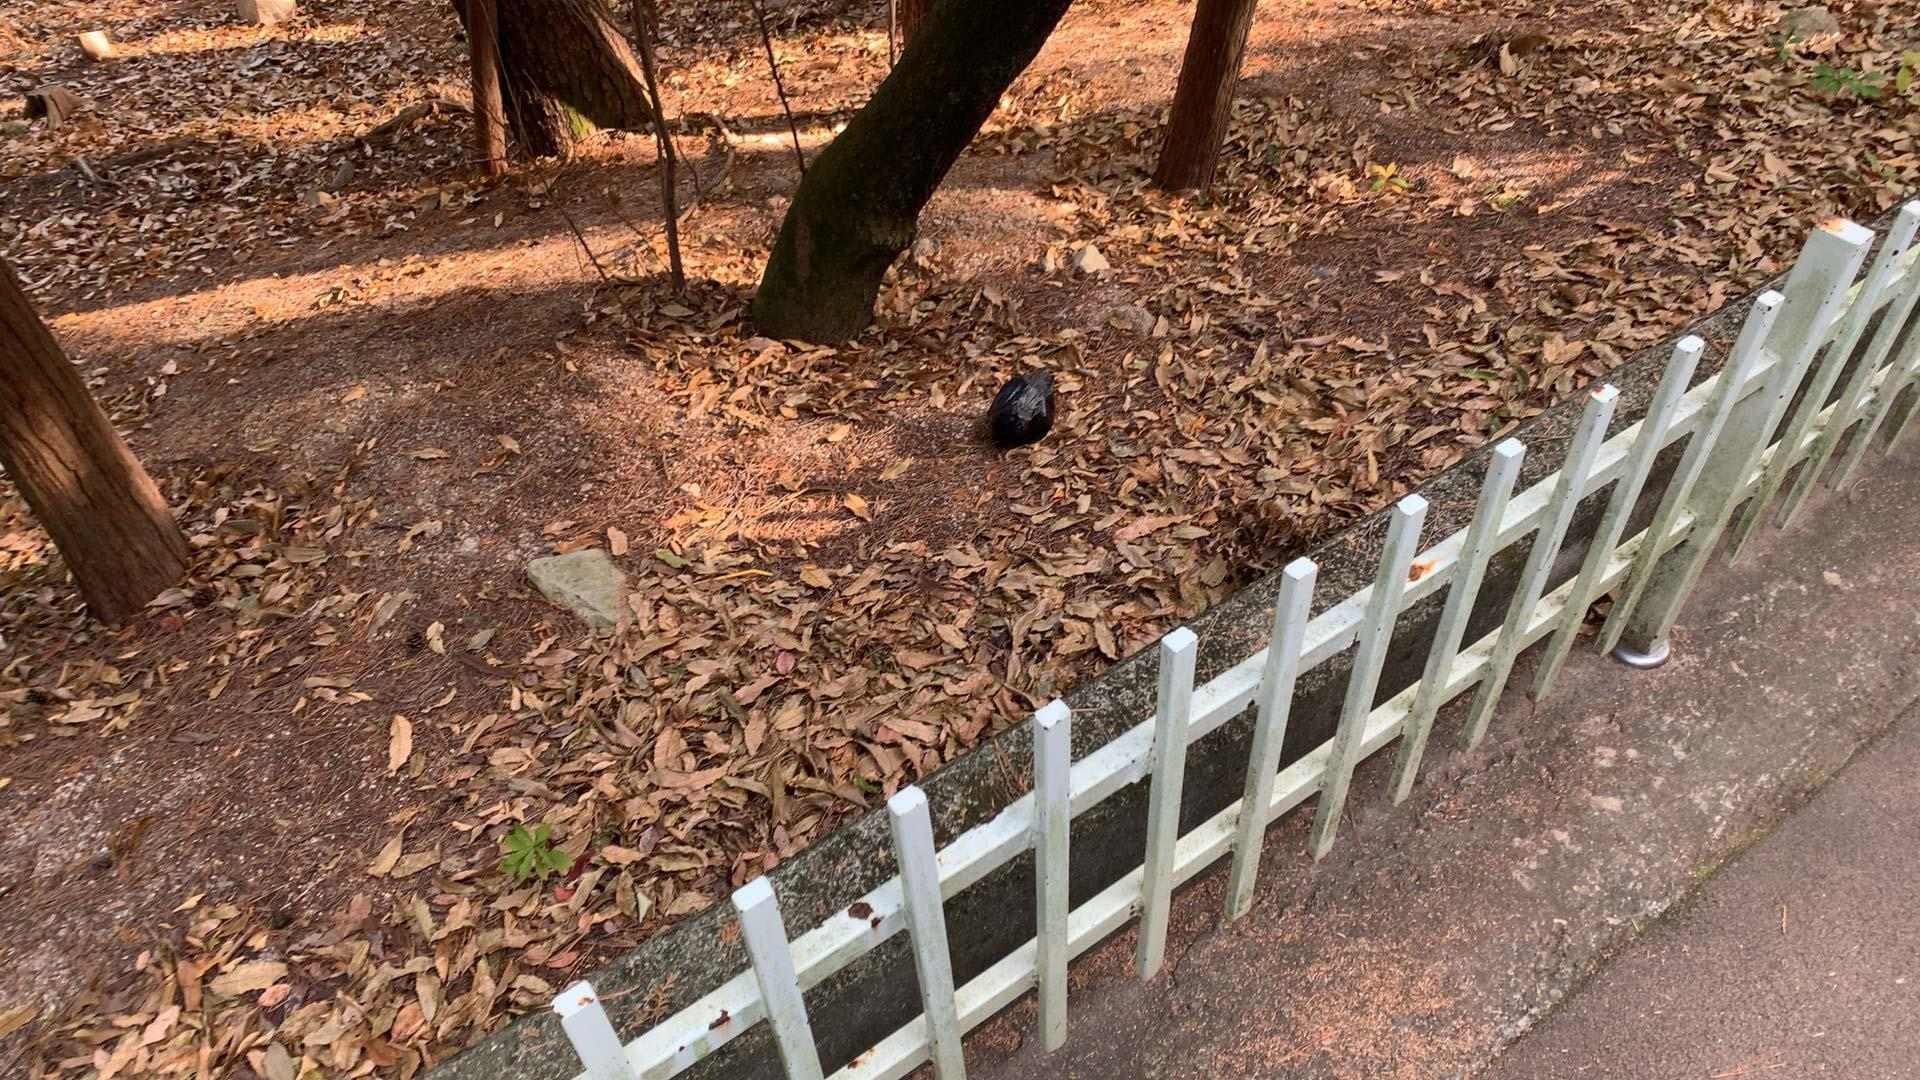black_bag: (981, 363, 1059, 451)
